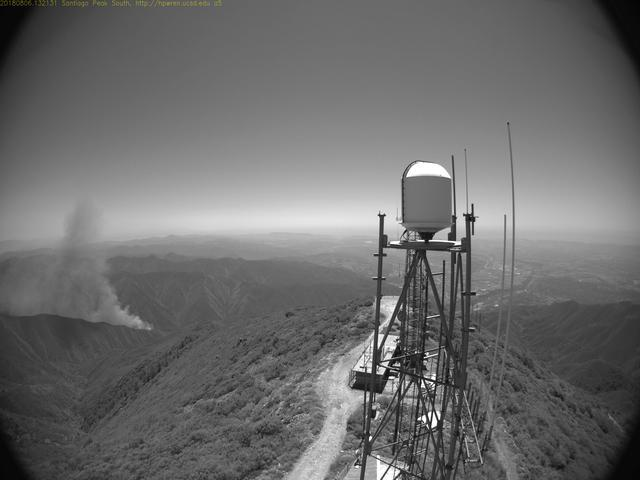smoke: (0, 197, 156, 334)
